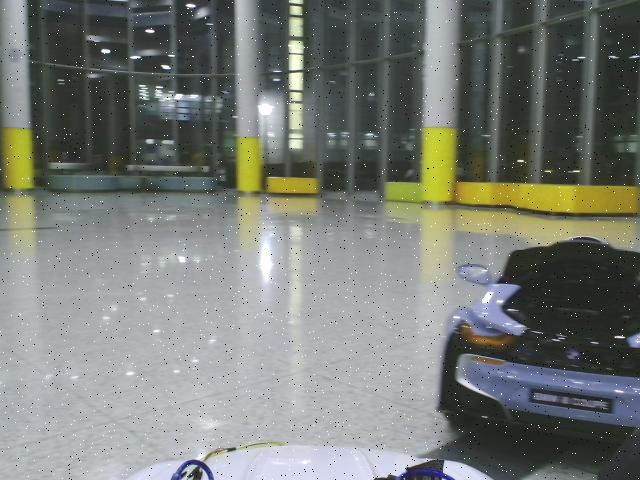car: (437, 235, 640, 443)
